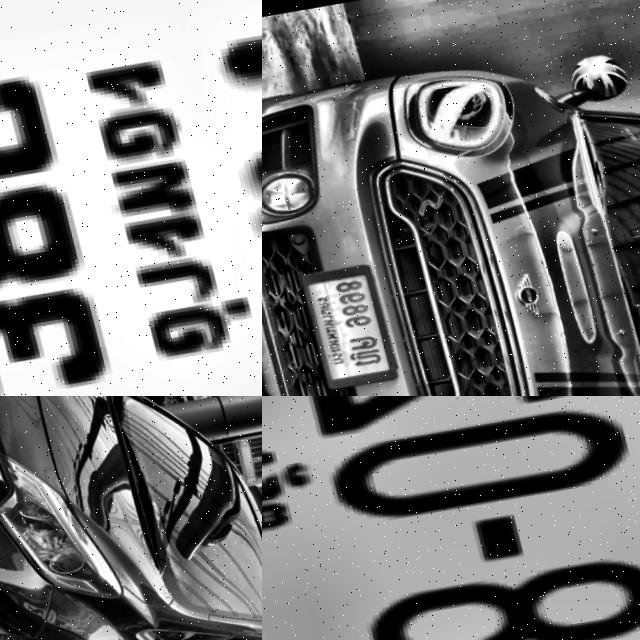license-plate: (0, 0, 262, 396), (262, 396, 640, 640), (285, 265, 398, 390)
